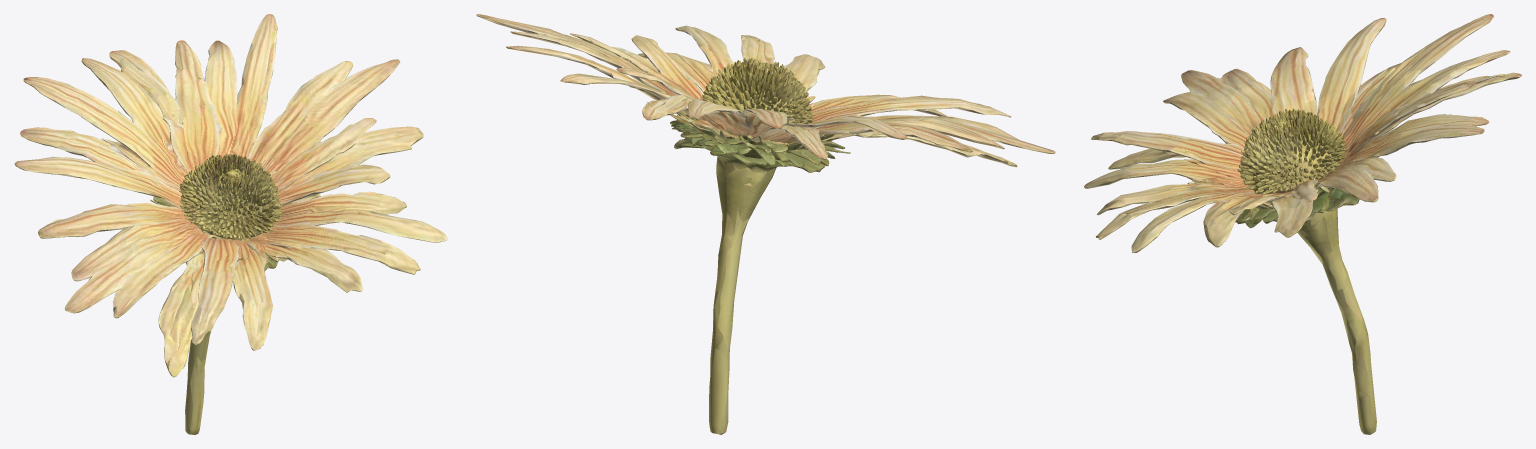
Rendered from rudbeckia-02.glb.
3 views of the same model, side by side, from view 1: azimuth 30°, elevation 25°; view 2: azimuth 150°, elevation 25°; view 3: azimuth 270°, elevation 25° (orthographic). The views are drawn at different scales.
Parts seen in each view (by area): view 1: mesh_node; view 2: mesh_node; view 3: mesh_node.
Part boxes in pixels (x1=…): mesh_node: x1=14, y1=14, x2=447, y2=434; mesh_node: x1=476, y1=14, x2=1055, y2=434; mesh_node: x1=1084, y1=14, x2=1521, y2=434.
Size of the model in its own units: 1.9 by 1.5 by 1.6.
1 material, 1 textured.
